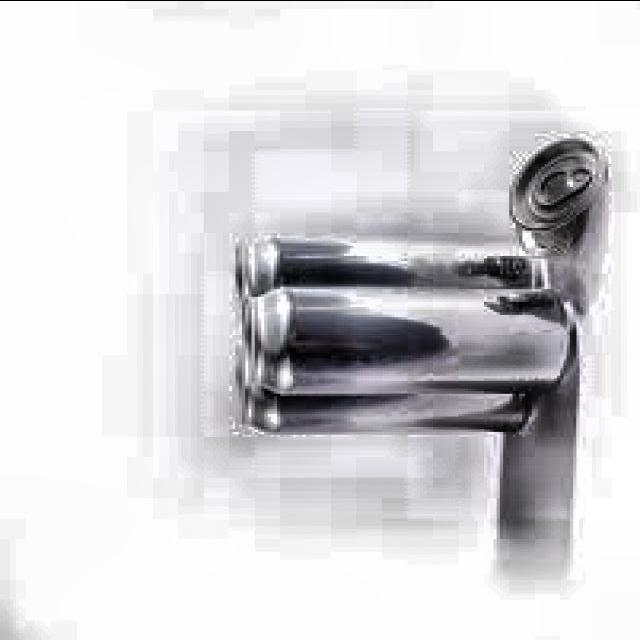Aluminum Can: (242, 287, 586, 393), (232, 338, 540, 437), (230, 233, 548, 306), (511, 132, 604, 264)
